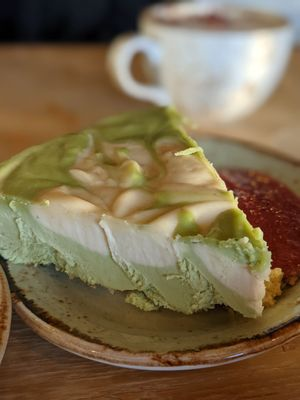pizza: (102, 0, 299, 130)
soup: (1, 105, 296, 360)
